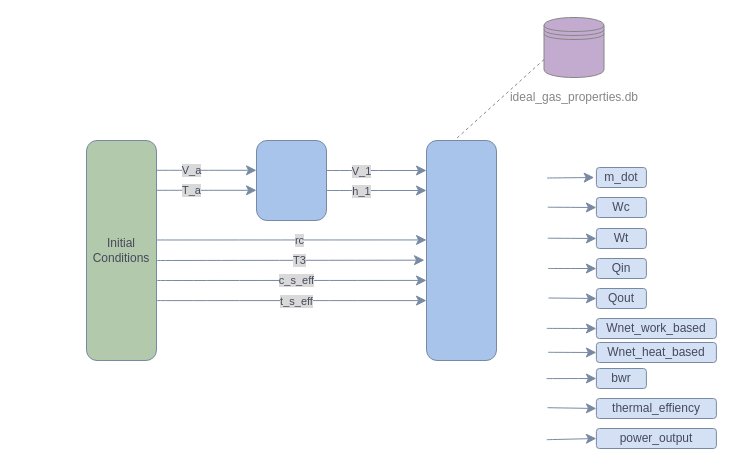
Image size: 734x466. Some labels were removed from this diagram. Each missing label, with the box of its shape:
Brayton Cycle: (426, 140, 496, 360)
Diffuser: (256, 140, 326, 220)
